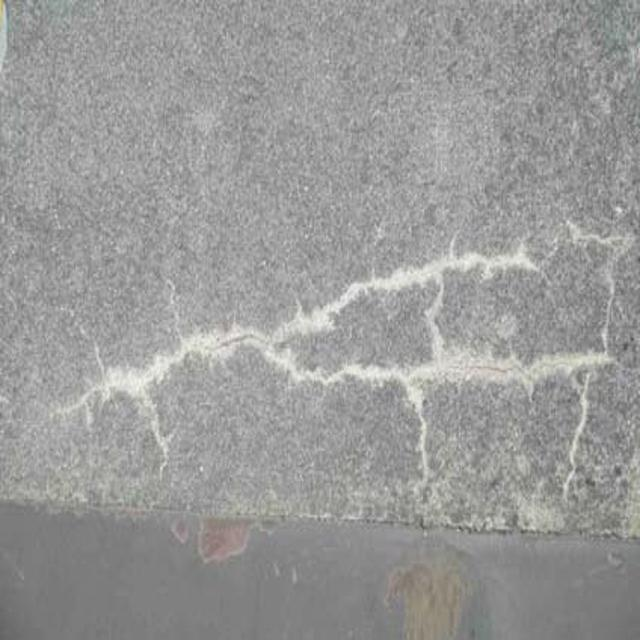crack: (69, 273, 608, 451)
